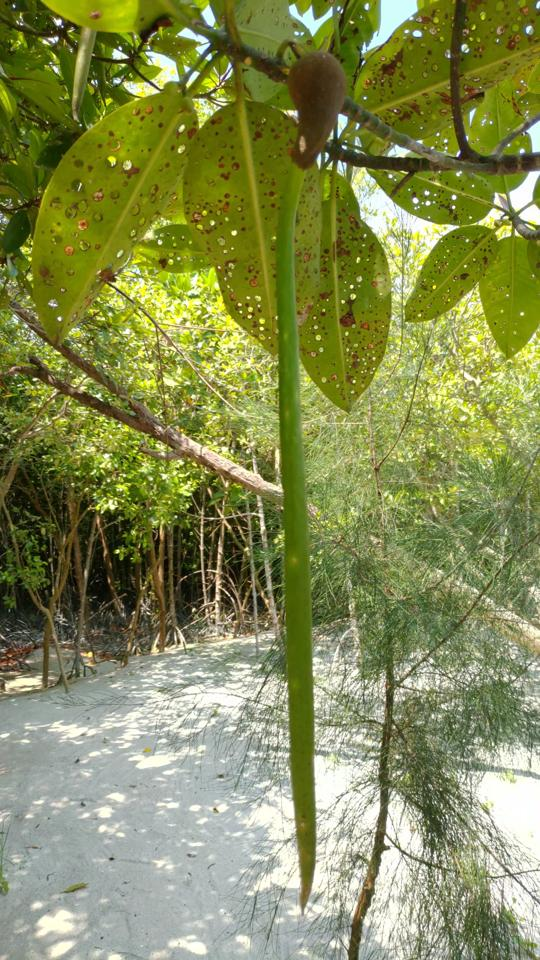mentah: (264, 18, 359, 925)
